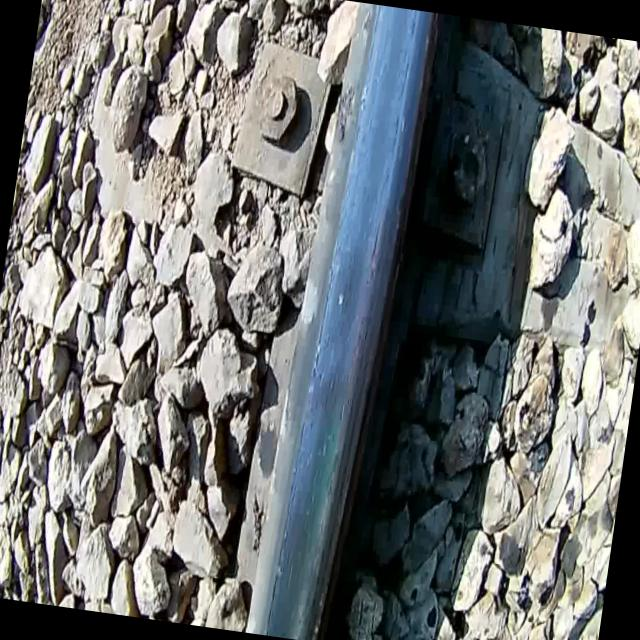Grooves: (260, 412, 310, 637), (308, 198, 348, 389), (352, 4, 384, 152)
Shellings: (328, 322, 374, 521), (387, 10, 420, 160), (301, 514, 338, 640)
Spallings: (331, 76, 360, 148)
